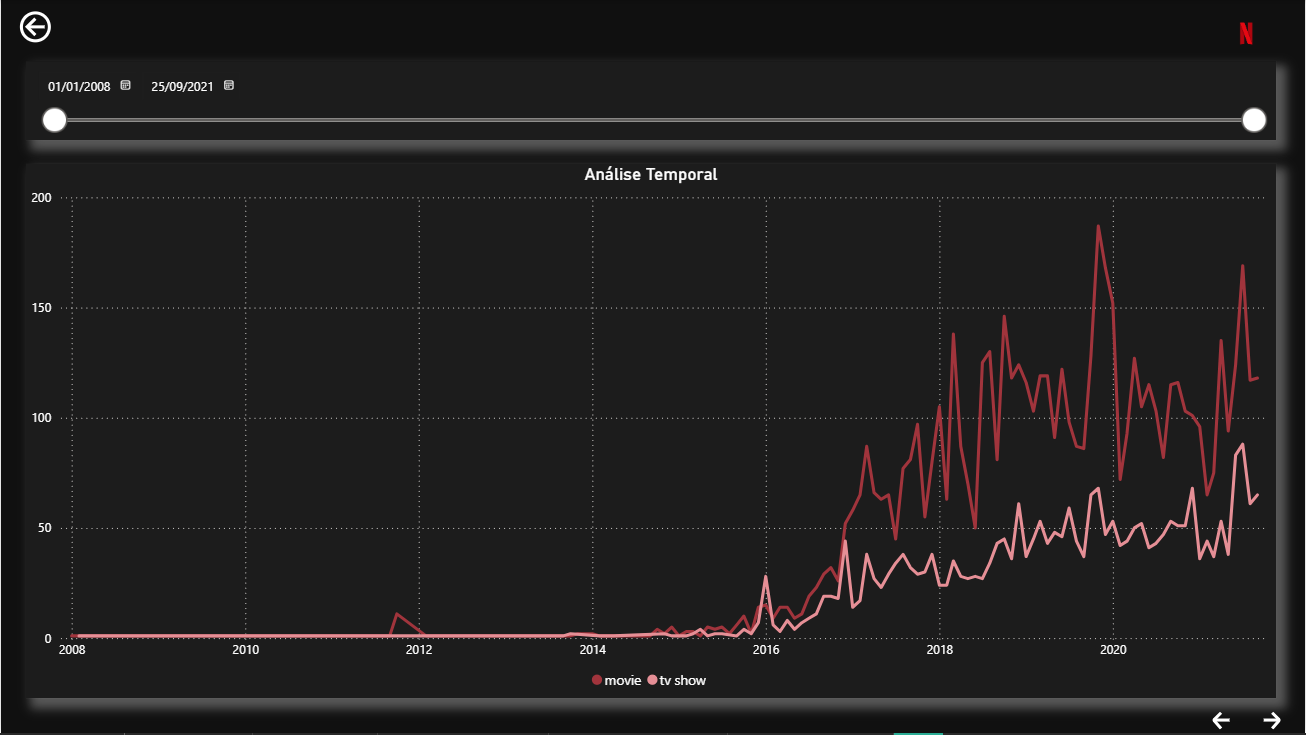

What the dashboard file says about the page in this screenshot:
{"tool":"powerbi","page":{"name":"Evolução Temporal","canvas":[1280,720],"ordinal":3},"visuals":[{"type":"image","box":[1179.1,6.1,88.3,54],"z":0},{"type":"image","box":[1179.1,6.1,88.3,54],"z":1000},{"type":"actionButton","box":[13.5,6.1,42.9,40.5],"z":2000},{"type":"areaChart","title":"Análise Temporal","fields":{"Category":["titles_clean.date_formated.Variation.Hierarquia de datas.Ano","titles_clean.date_formated.Variation.Hierarquia de datas.Mês"],"Y":["CountNonNull(titles_clean.show_id)"],"Series":["titles_clean.type"]},"box":[24.5,160.7,1227,525.2],"z":3000},{"type":"slicer","fields":{"Values":["titles_clean.date_formated"]},"box":[24.5,60.1,1227,77.3],"z":4000},{"type":"actionButton","box":[1234.4,694.2,33.1,25.8],"z":5000},{"type":"actionButton","box":[1185.3,694.5,38,25.8],"z":6000}]}

Visuals, with their boxes in screenshot pixels (x1, y1, x2, y2), scaled from the page's 1280x720 canvas onto the 1306x735 screenshot:
image: select_region(1203, 6, 1293, 61)
image: select_region(1203, 6, 1293, 61)
actionButton: select_region(14, 6, 58, 48)
"Análise Temporal" areaChart: select_region(25, 164, 1277, 700)
slicer - titles_clean.date_formated: select_region(25, 61, 1277, 140)
actionButton: select_region(1259, 709, 1293, 734)
actionButton: select_region(1209, 709, 1248, 734)
